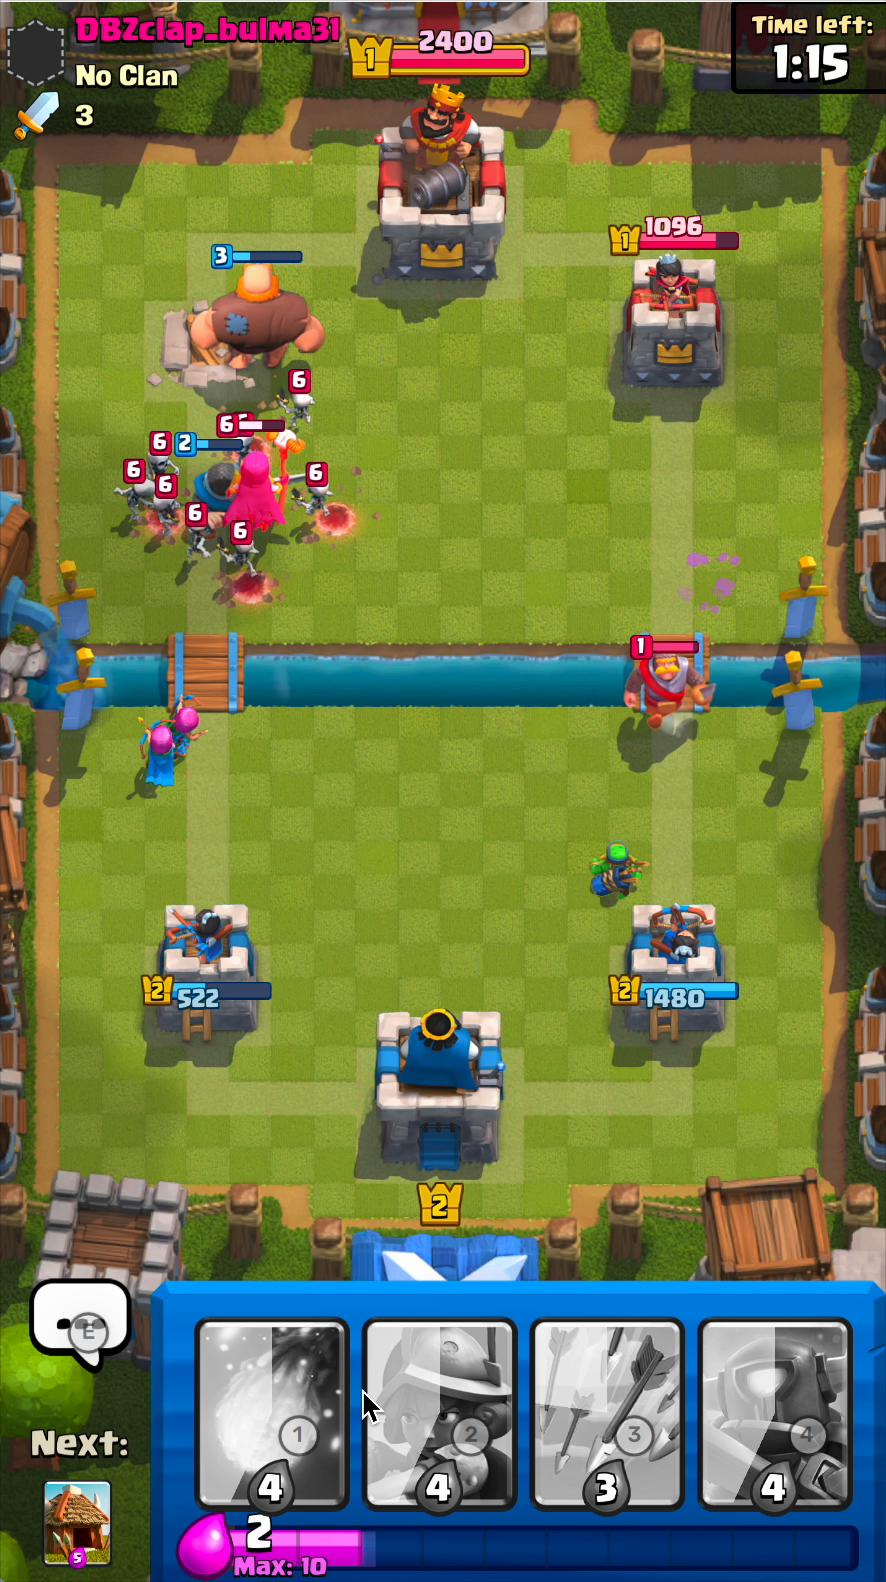archere: (138, 718, 186, 799), (169, 692, 204, 758)
chevalier: (609, 643, 721, 746), (180, 451, 261, 548)
geant: (175, 254, 327, 378)
gobelin_lances: (582, 849, 642, 900)
squelette: (285, 468, 341, 530), (224, 526, 273, 593), (174, 504, 220, 566), (149, 484, 186, 537), (140, 435, 177, 488), (118, 470, 150, 520), (283, 385, 315, 427)
